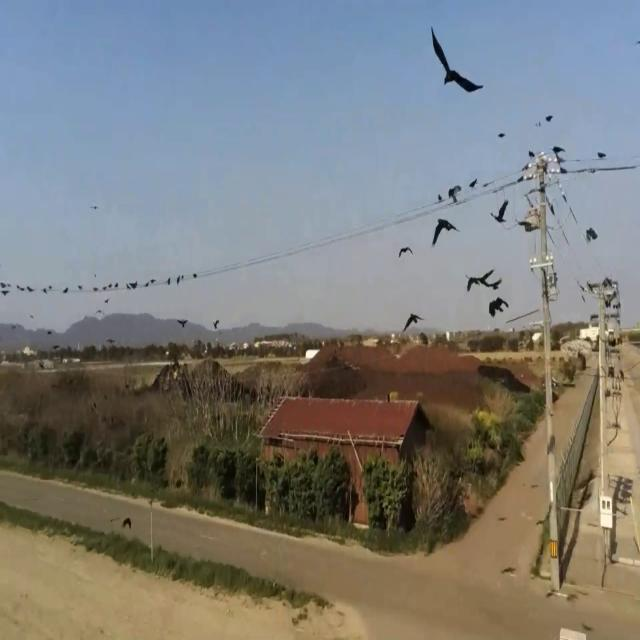bird: (431, 20, 481, 111), (432, 211, 456, 254), (468, 266, 497, 300), (491, 196, 509, 233), (489, 291, 506, 322), (398, 239, 413, 265), (586, 222, 597, 248), (578, 279, 589, 302), (19, 280, 32, 298), (178, 313, 188, 333), (0, 278, 9, 300), (144, 274, 155, 290), (128, 276, 137, 294), (213, 314, 219, 331), (177, 273, 181, 285), (105, 294, 109, 305)
